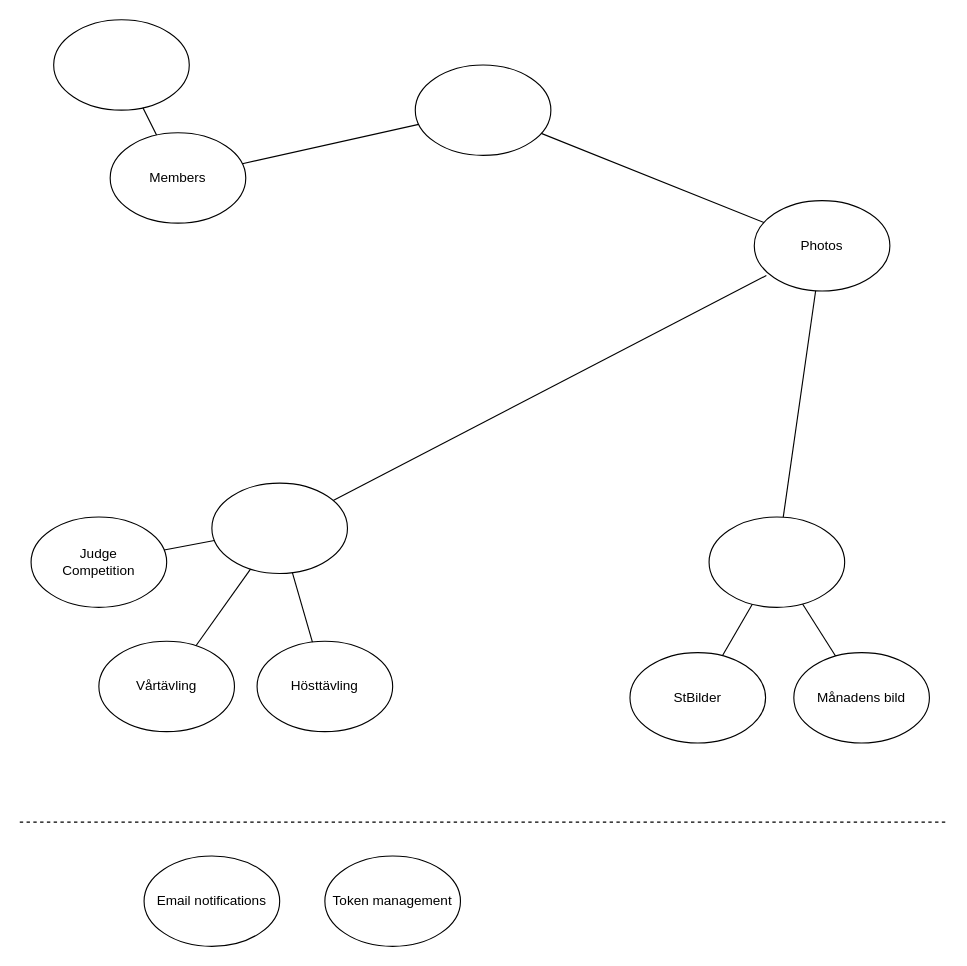
The diagram is 967 pixels wide and 966 high, and some of its shapes have lost their labels. The centre of each missing label's shape, as x and y in pixels:
"Member role" goes at [121,64].
"Photo Competitions" goes at [279,527].
"Submissions" goes at [776,561].
"Users" goes at [482,109].
